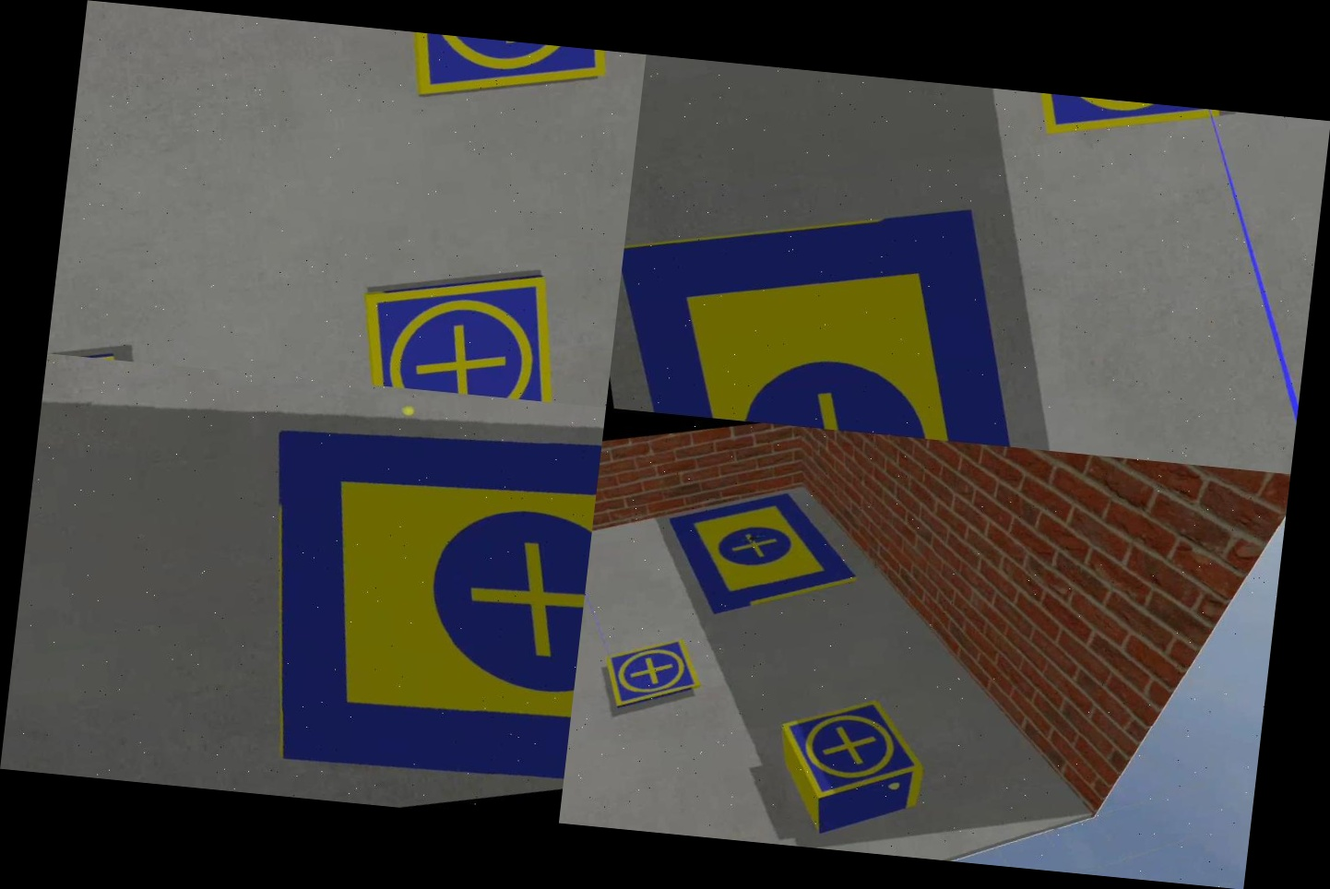large_base: (193, 373, 606, 823), (606, 170, 1051, 448), (658, 469, 873, 634)
small_base: (347, 254, 585, 404), (373, 29, 632, 121), (769, 682, 938, 815), (998, 89, 1230, 158), (593, 633, 707, 721)
